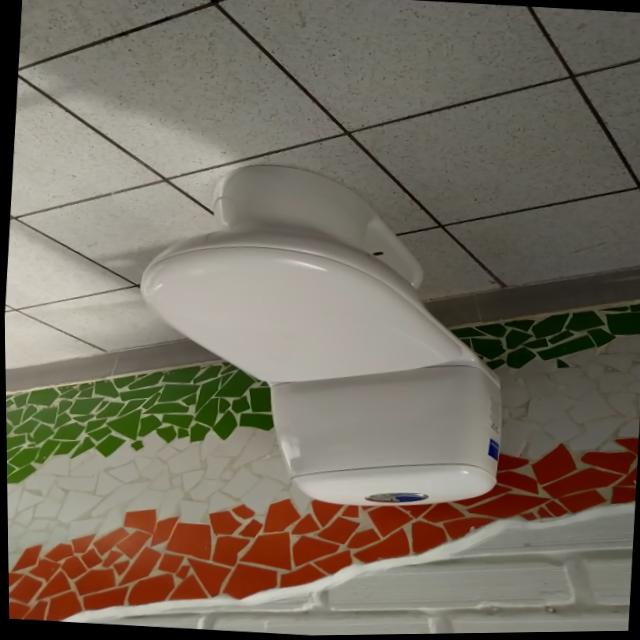toilet: (121, 154, 519, 520)
